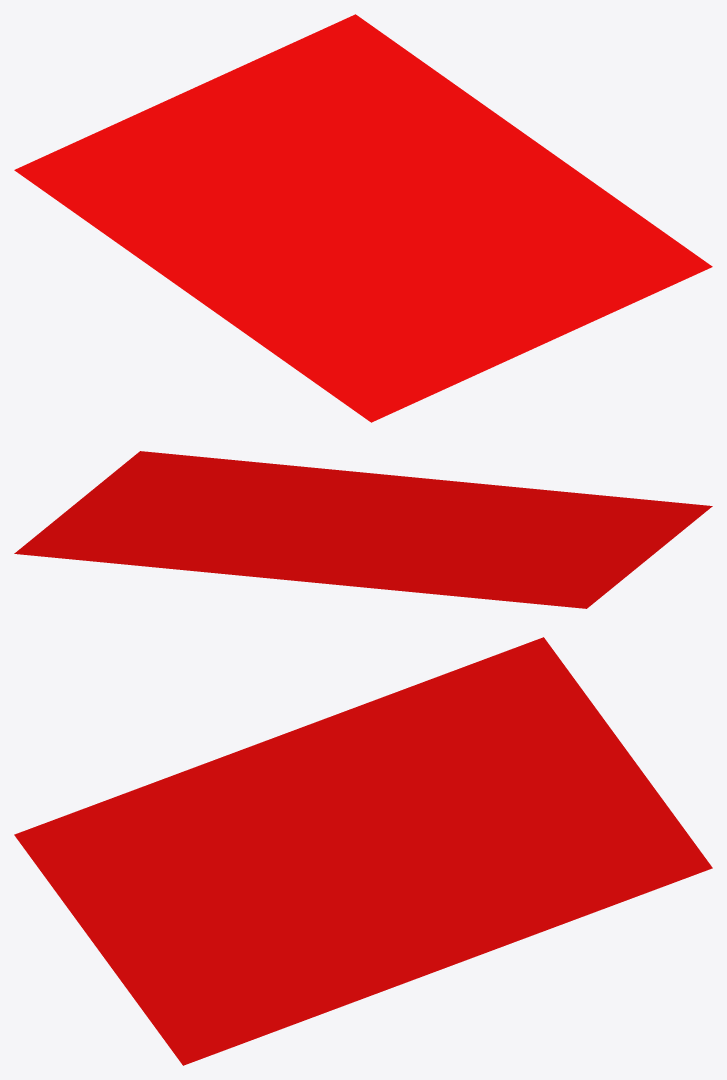
3 renders of one model, top to bottom at view 1: azimuth 30°, elevation 25°; view 2: azimuth 150°, elevation 25°; view 3: azimuth 270°, elevation 25°, orthographic. The views are drawn at different scales.
Parts seen in each view (by area): view 1: plane; view 2: plane; view 3: plane.
Boxes of the visible parts, x1,y1,x2,y2 form: plane: [14, 14, 712, 422]; plane: [14, 451, 712, 608]; plane: [14, 637, 712, 1065].
Bounding box in the file's own units: 3.73 × 0.7422 × 3.66.
Materials: 1 (1 with a texture image).
